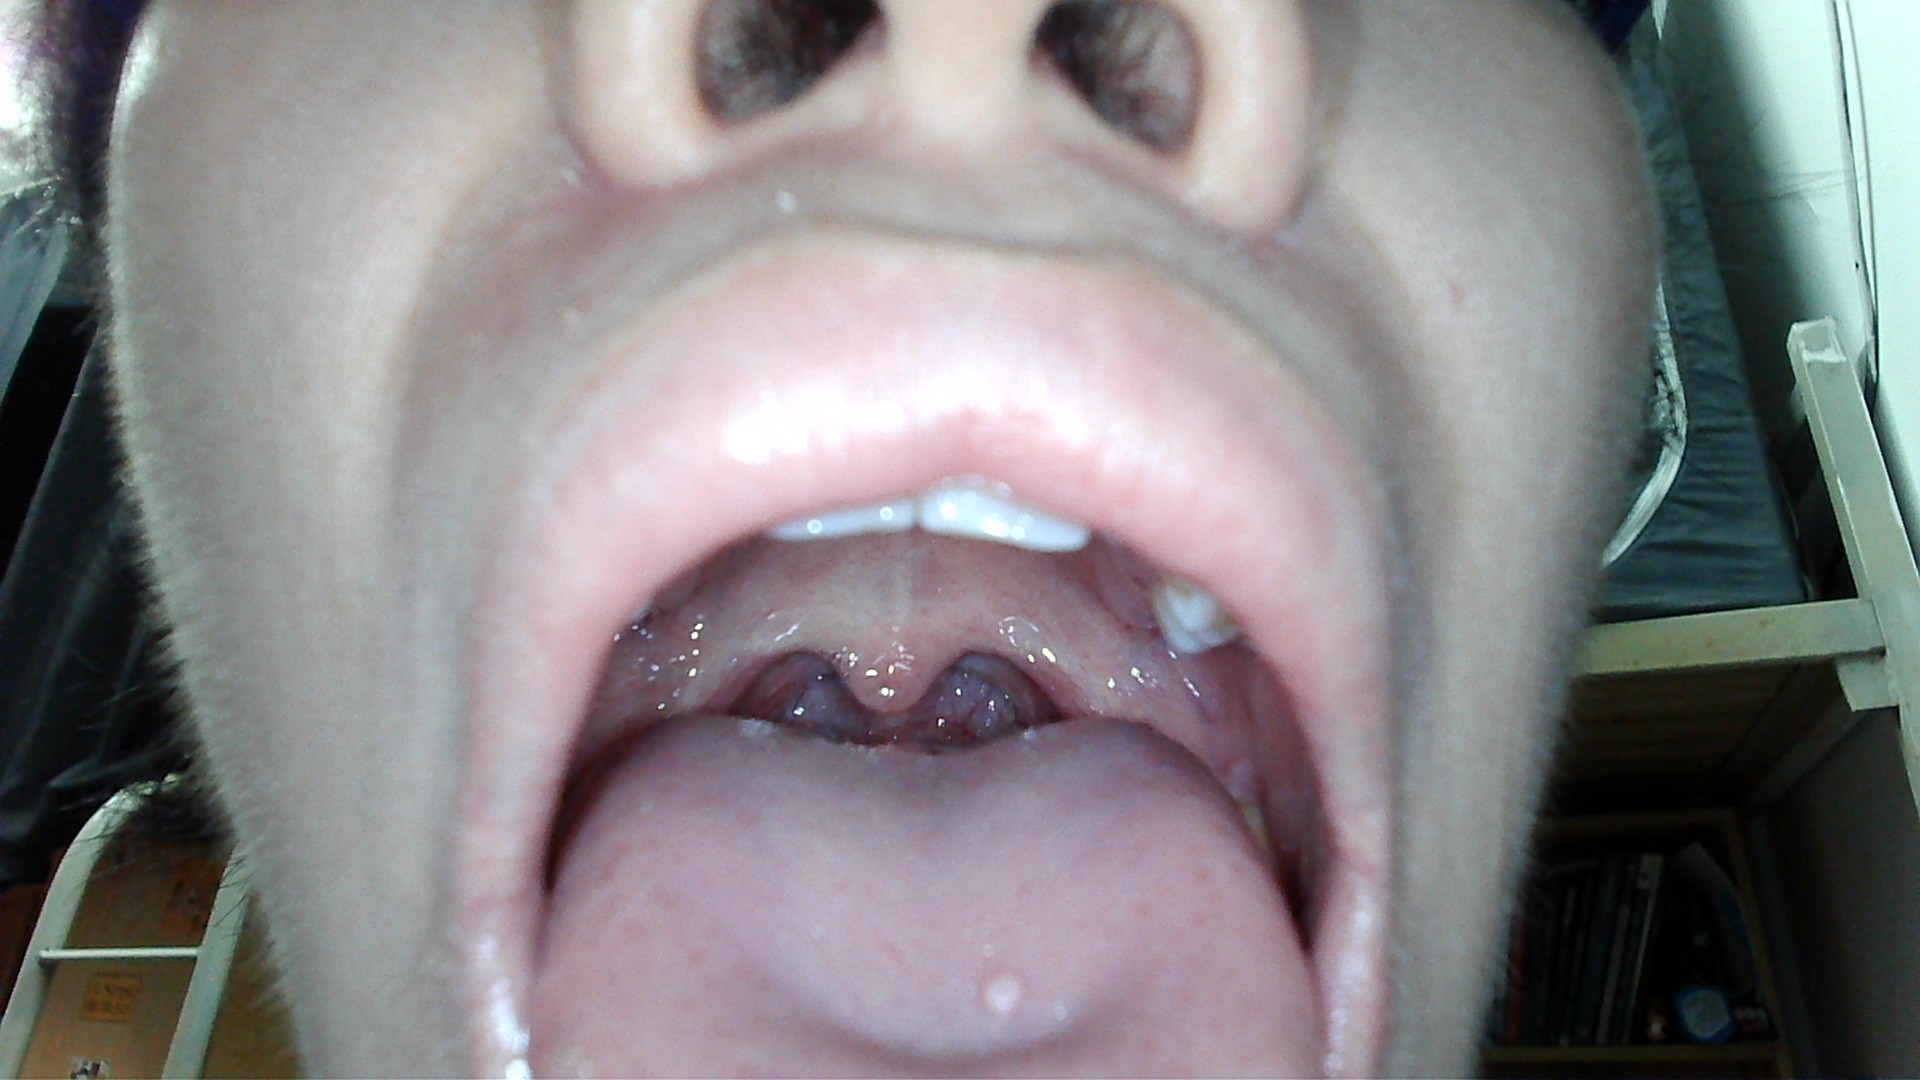throat: (682, 628, 770, 712), (1014, 632, 1098, 712)
